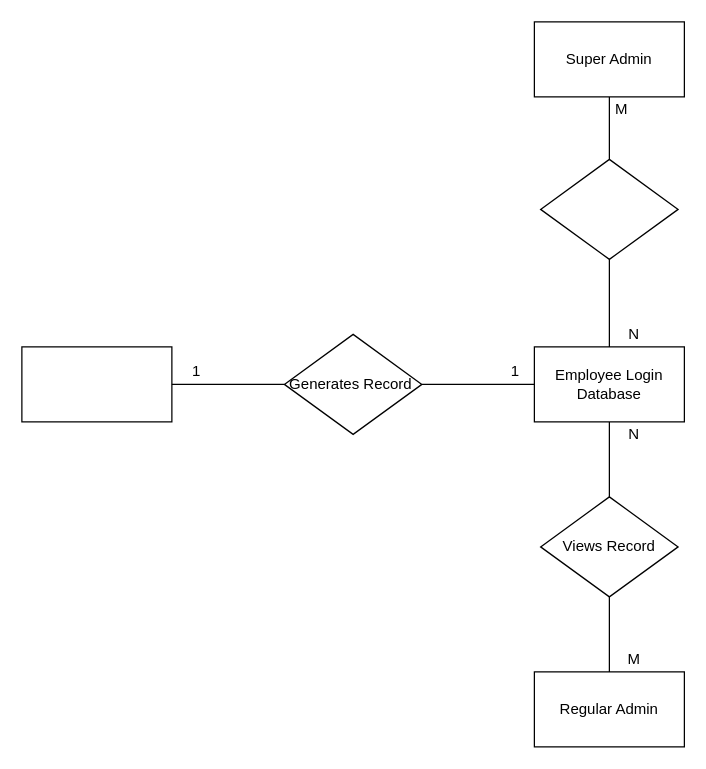
Image size: 706x769. Some labels were removed from this diagram. The centre of each missing label's shape, as x and y in pixels:
"Employee Login" goes at (96,384).
"Modifies Record" goes at (608,208).
